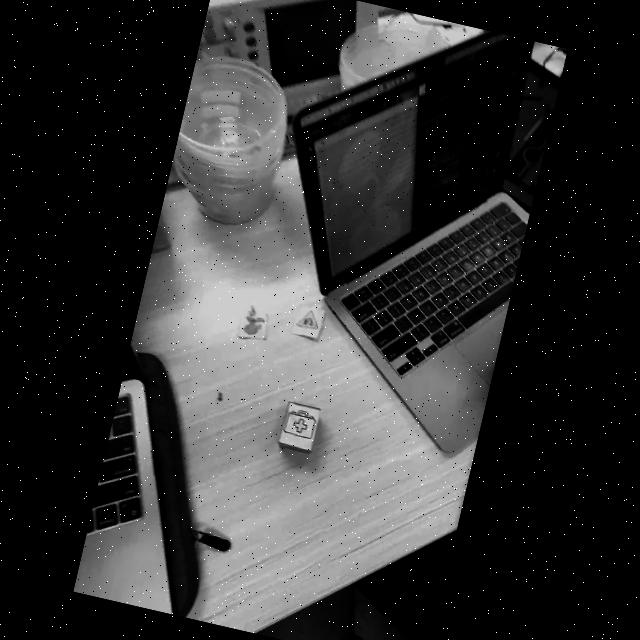Medkit: (284, 409, 316, 439)
